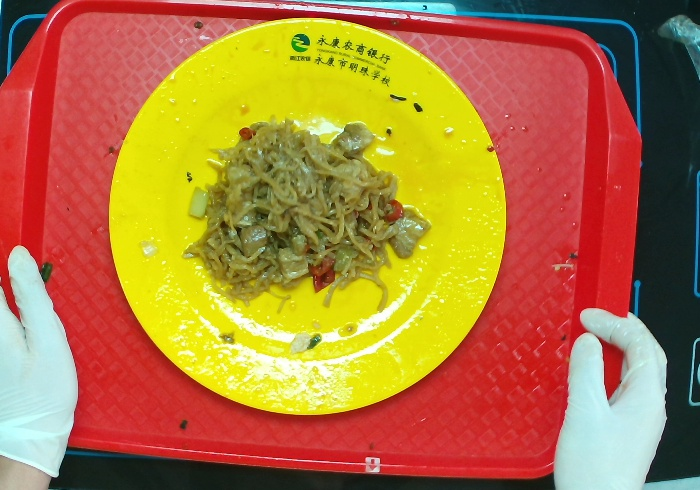YKMZ-Huang_Se_Mian_Pan: (107, 15, 509, 417)
